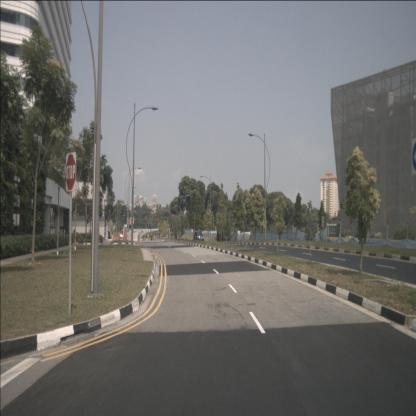cone: (138, 235, 141, 243)
